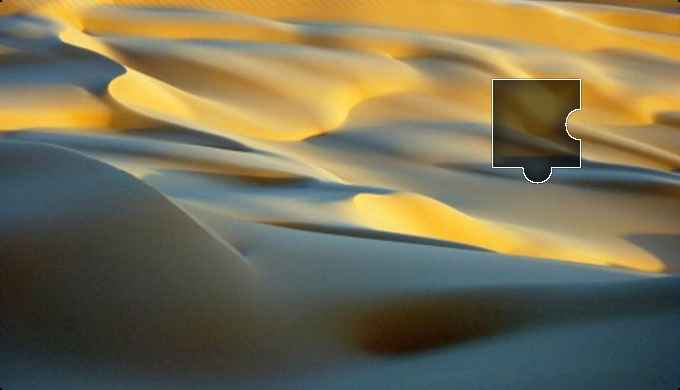gap: (494, 79, 579, 187)
